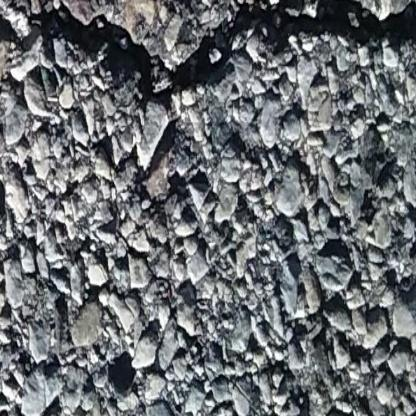Cracks: (0, 0, 416, 124)
